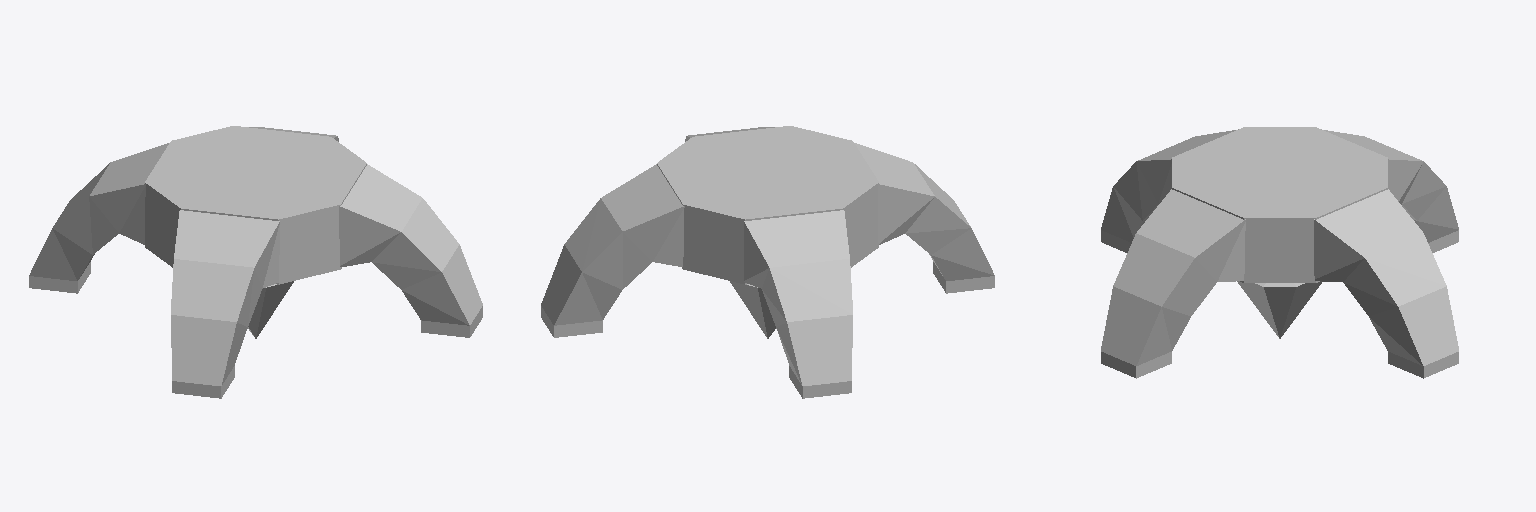
The model's file is mega_drill.obj.
3 views of the same model, side by side, from view 1: azimuth 30°, elevation 25°; view 2: azimuth 150°, elevation 25°; view 3: azimuth 270°, elevation 25° (orthographic).
Parts seen in each view (by area): view 1: base, arm_3, arm_4, arm_1, drill; view 2: base, arm_1, arm_2, arm_3, drill; view 3: base, arm_2, arm_4, arm_1, arm_3, drill.
Part boxes in pixels (left/top/right/bottom): base: left=145, top=126, right=366, bottom=284; arm_3: left=171, top=210, right=279, bottom=398; arm_4: left=339, top=164, right=482, bottom=337; arm_1: left=29, top=143, right=168, bottom=293; drill: left=248, top=281, right=293, bottom=338; base: left=657, top=126, right=878, bottom=284; arm_1: left=744, top=210, right=852, bottom=398; arm_2: left=541, top=164, right=684, bottom=337; arm_3: left=855, top=143, right=994, bottom=293; drill: left=730, top=281, right=775, bottom=338; base: left=1172, top=127, right=1387, bottom=282; arm_2: left=1314, top=189, right=1458, bottom=378; arm_4: left=1101, top=189, right=1245, bottom=378; arm_1: left=1321, top=129, right=1458, bottom=252; arm_3: left=1101, top=129, right=1238, bottom=252; drill: left=1237, top=281, right=1321, bottom=338.
Size of the model in its own units: 5 by 2.56 by 5.